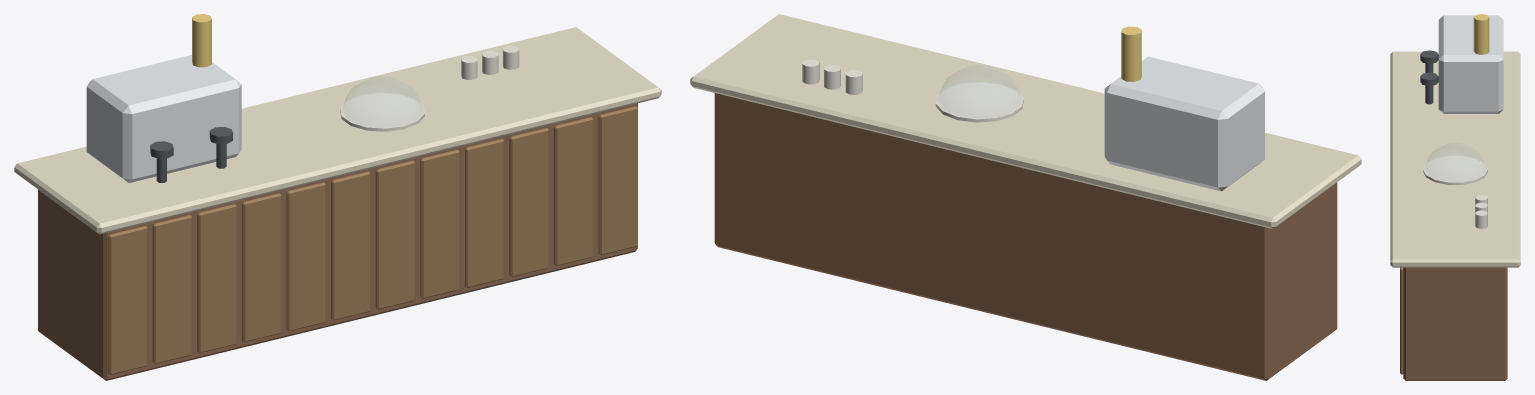
File: an_counter.glb
3 renders of one model, left to right at view 1: azimuth 30°, elevation 25°; view 2: azimuth 150°, elevation 25°; view 3: azimuth 270°, elevation 25°, orthographic. The views are drawn at different scales.
Visible parts, largest first — view 1: an_counter; view 2: an_counter; view 3: an_counter.
Part boxes in pixels (x1,y1,x2,y2): an_counter: (14, 14, 661, 380); an_counter: (690, 14, 1361, 380); an_counter: (1390, 14, 1520, 380).
Bounding box in the file's own units: 3.8 × 1.87 × 1.
